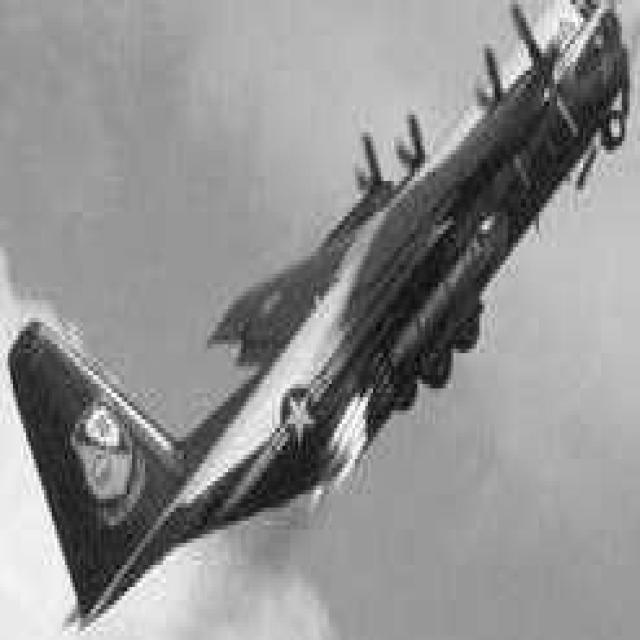Aircraft: (21, 29, 625, 627)
